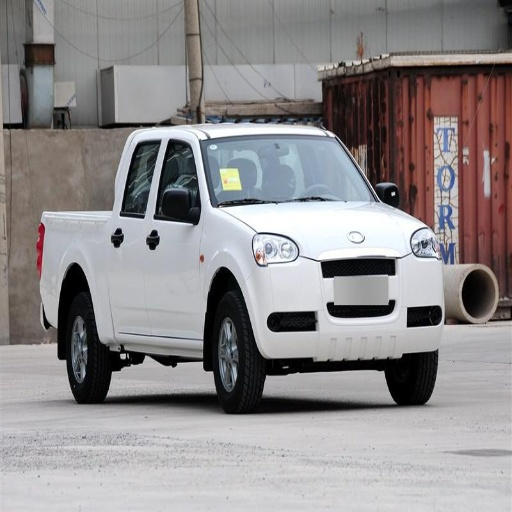back_right_door: (108, 140, 164, 333)
front_bumper: (248, 249, 440, 356)
front_right_door: (146, 138, 199, 337)
front_right_light: (253, 234, 299, 265)
tailgate: (328, 201, 406, 274)
trunk: (38, 215, 109, 320)
